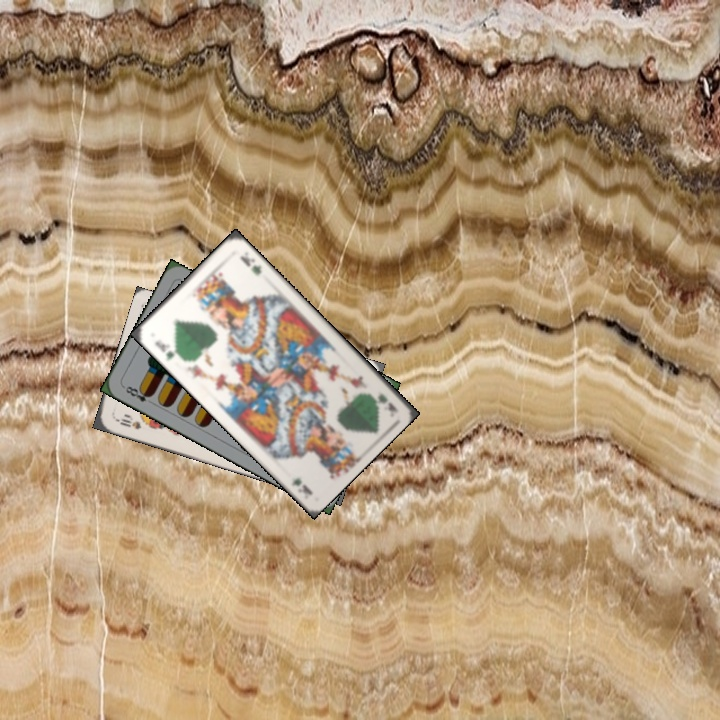E8: (119, 382, 156, 407)
GK: (151, 335, 184, 363), (374, 392, 399, 414)
S10: (111, 412, 144, 432)
